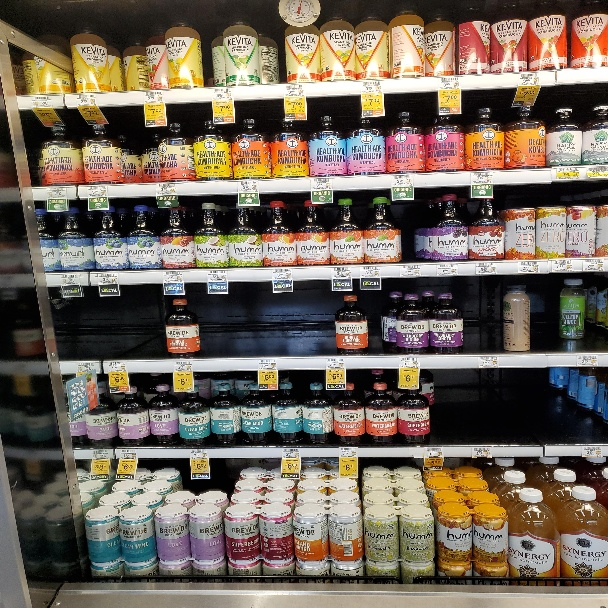All PRICE TAGS: (556, 168, 581, 180), (575, 354, 599, 366), (92, 272, 116, 284), (439, 76, 461, 89), (519, 72, 541, 85), (470, 172, 492, 185), (551, 260, 574, 272), (362, 80, 383, 93), (582, 259, 604, 271), (85, 185, 107, 197), (31, 96, 54, 107), (236, 181, 259, 192), (436, 264, 459, 275), (143, 91, 164, 103), (478, 356, 500, 367), (155, 184, 177, 195), (519, 261, 541, 272), (76, 94, 96, 106), (586, 167, 607, 178), (46, 187, 67, 198), (284, 84, 305, 95), (391, 176, 412, 187), (272, 268, 293, 279), (400, 265, 421, 276), (475, 263, 496, 274), (105, 361, 126, 372), (256, 359, 277, 370), (582, 446, 602, 457), (212, 88, 232, 99), (311, 179, 331, 190), (331, 267, 351, 278), (325, 358, 345, 369), (60, 274, 81, 284), (163, 272, 184, 282), (207, 271, 228, 281), (359, 266, 380, 276), (472, 447, 492, 457), (118, 448, 138, 458), (75, 362, 95, 372), (399, 357, 419, 367), (173, 361, 192, 371), (91, 449, 109, 459), (281, 448, 300, 457), (425, 447, 443, 456), (339, 448, 357, 457), (190, 449, 208, 458)
